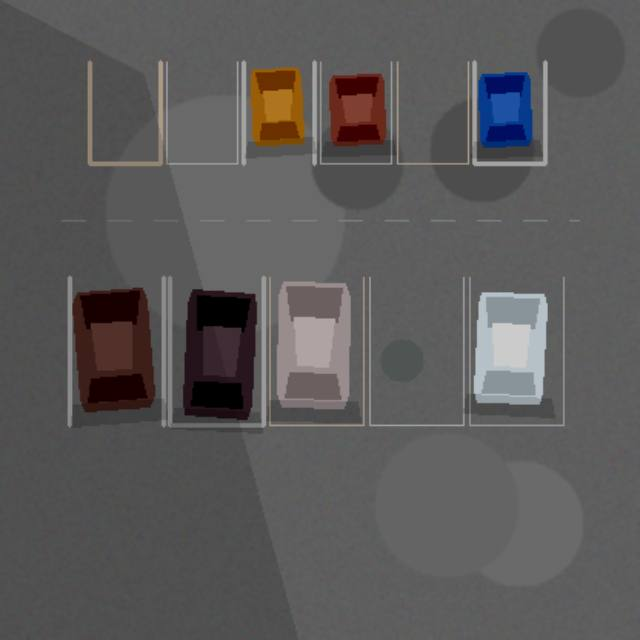space-empty: (369, 277, 463, 425), (89, 62, 160, 163), (166, 62, 237, 163), (397, 62, 468, 163)
space-occupied: (69, 277, 163, 425), (169, 277, 263, 425), (269, 277, 363, 425), (469, 277, 563, 425), (243, 62, 314, 163), (320, 62, 391, 163), (474, 62, 545, 163)
